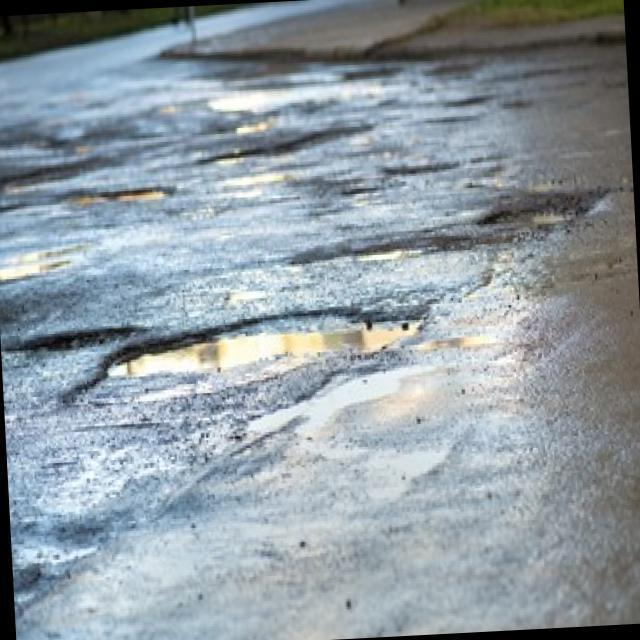pothole: (98, 302, 431, 381), (4, 325, 141, 357), (479, 204, 589, 232), (63, 186, 175, 207), (339, 186, 377, 198)
